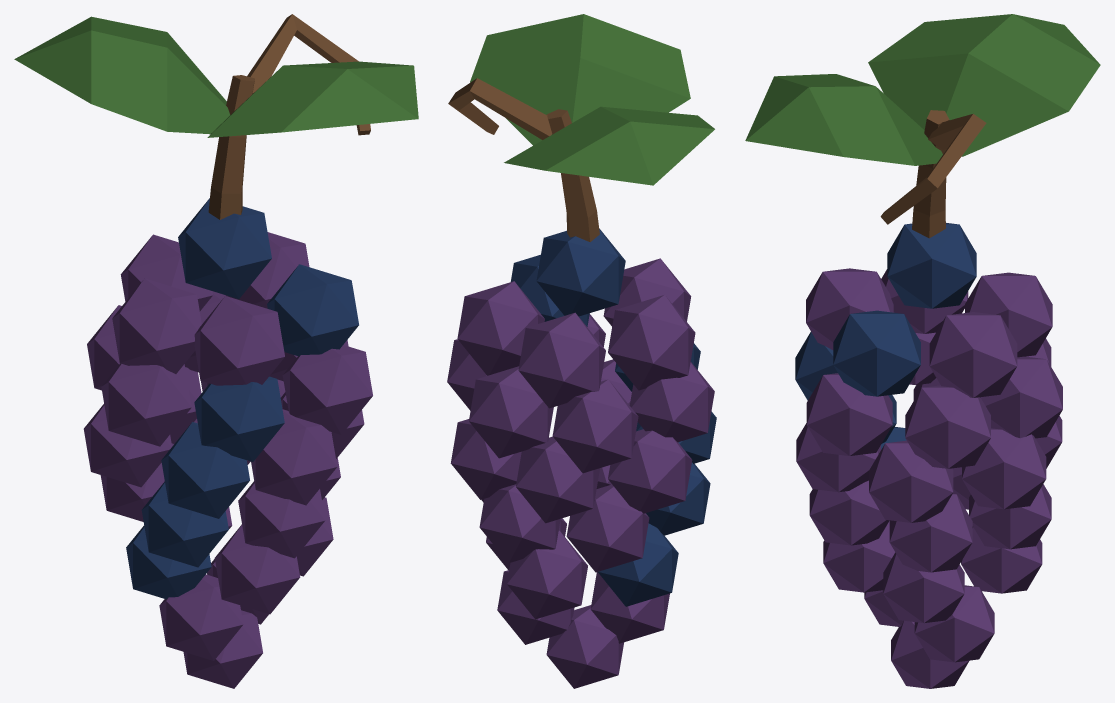
The model's file is mdvl_food_grapes_01.glb.
3 renders of one model, left to right at view 1: azimuth 30°, elevation 25°; view 2: azimuth 150°, elevation 25°; view 3: azimuth 270°, elevation 25°, orthographic. The views are drawn at different scales.
Parts seen in each view (by area): view 1: mdvl_food_grapes_01; view 2: mdvl_food_grapes_01; view 3: mdvl_food_grapes_01.
Boxes of the visible parts, x1,y1,x2,y2 form: mdvl_food_grapes_01: (14, 14, 418, 688); mdvl_food_grapes_01: (447, 14, 716, 688); mdvl_food_grapes_01: (745, 14, 1100, 688).
Bounding box in the file's own units: 0.084 × 0.1787 × 0.0915.
Materials: 1 (1 with a texture image).
